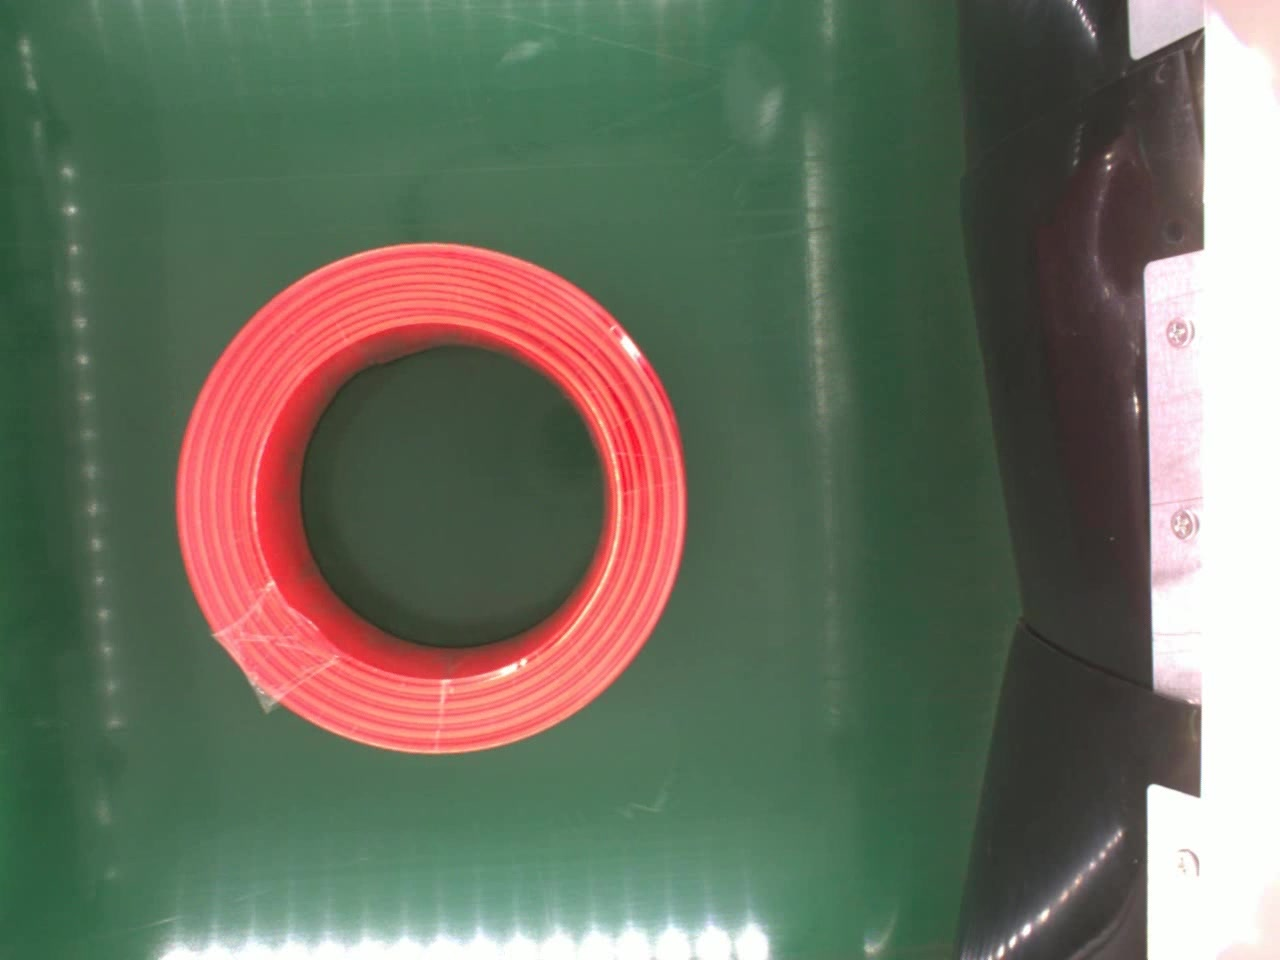red: (173, 241, 690, 754)
